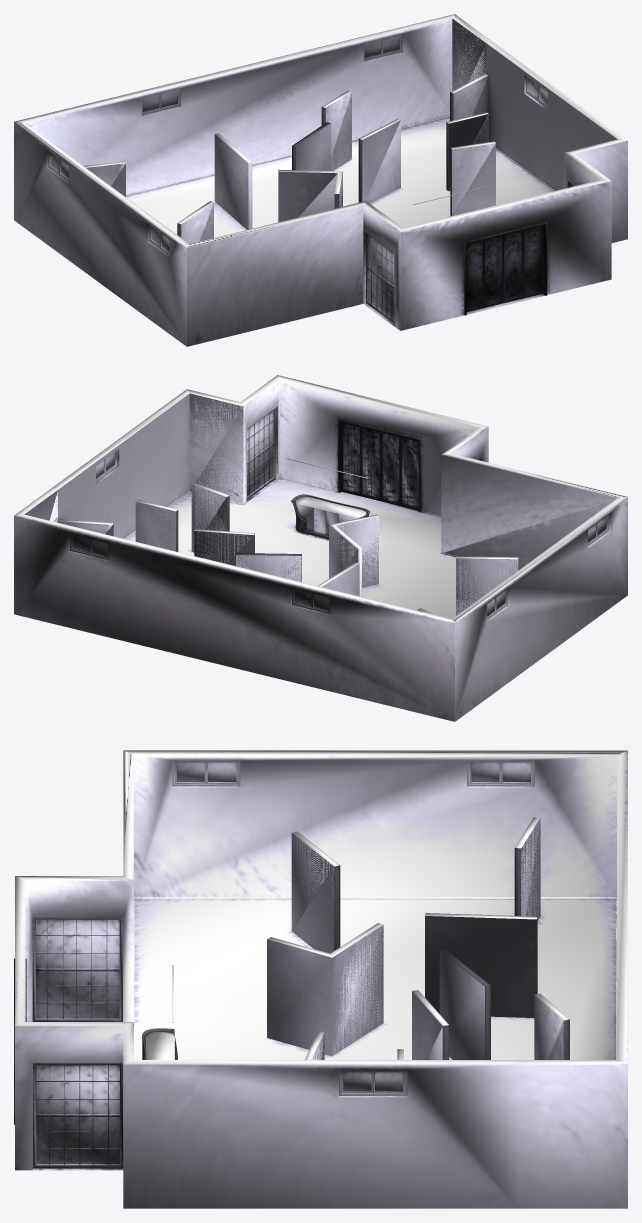
The picture shows the model from 3 angles, top to bottom: view 1: azimuth 30°, elevation 25°; view 2: azimuth 150°, elevation 25°; view 3: azimuth 270°, elevation 25°; orthographic projection. The views are drawn at different scales.
Visible parts, largest first — view 1: A45CA793_C55A_4776_98A7_DAA090EFE9C1; view 2: A45CA793_C55A_4776_98A7_DAA090EFE9C1; view 3: A45CA793_C55A_4776_98A7_DAA090EFE9C1.
Boxes of the visible parts, bbox=[...] form: A45CA793_C55A_4776_98A7_DAA090EFE9C1: bbox=[14, 14, 627, 346]; A45CA793_C55A_4776_98A7_DAA090EFE9C1: bbox=[14, 375, 627, 721]; A45CA793_C55A_4776_98A7_DAA090EFE9C1: bbox=[14, 750, 627, 1208].
Bounding box in the file's own units: 16381 × 3500 × 13533.
